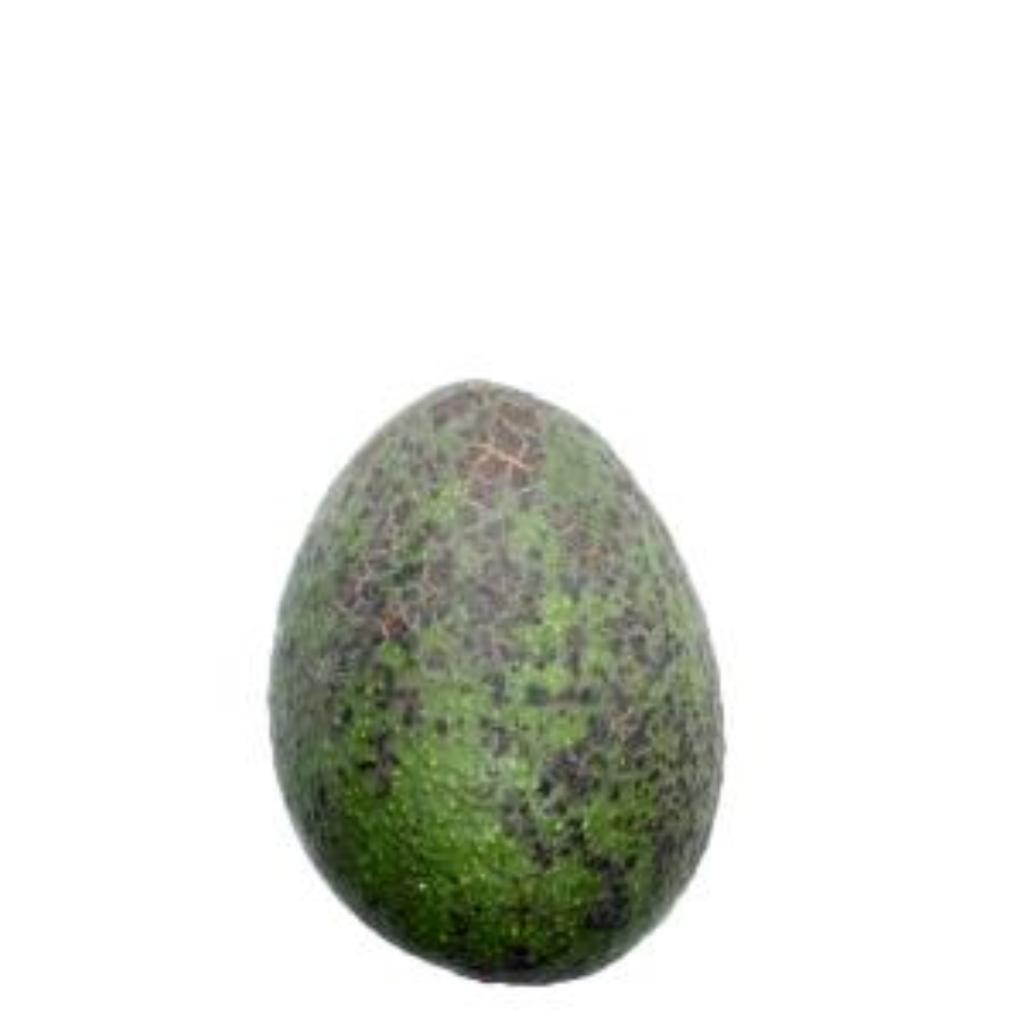cercospora: (263, 358, 741, 1000)
